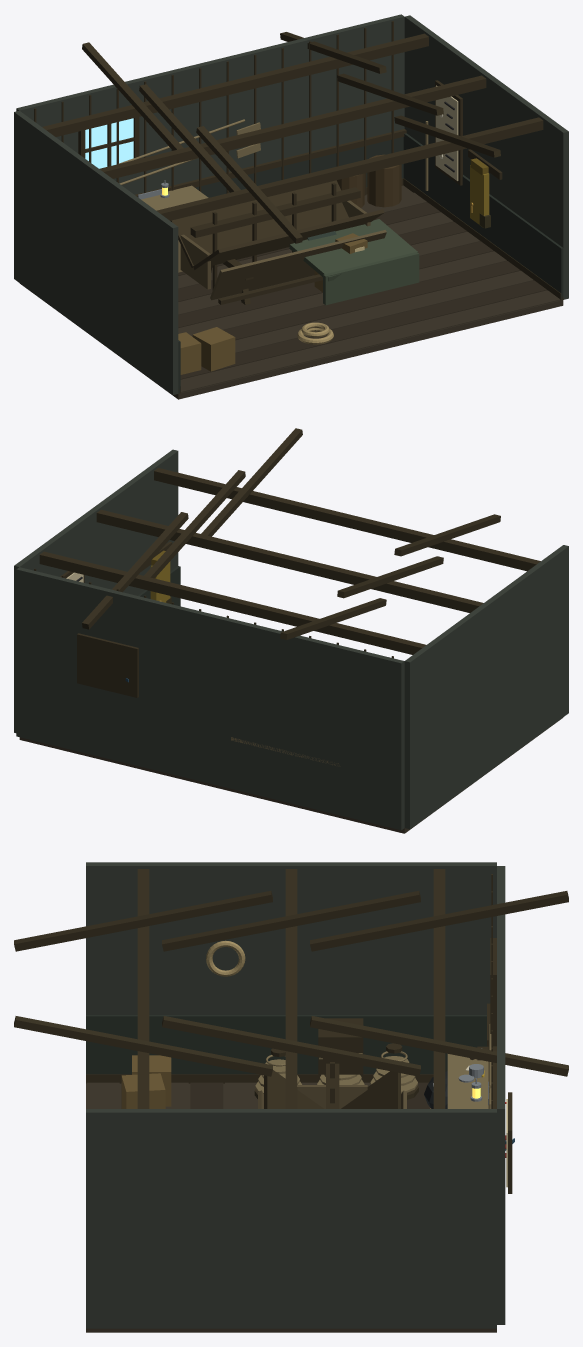
The model's file is boathouse.glb.
3 views of the same model, one above another, from view 1: azimuth 30°, elevation 25°; view 2: azimuth 150°, elevation 25°; view 3: azimuth 270°, elevation 25° (orthographic). The views are drawn at different scales.
Parts seen in each view (by area): view 1: WallLeft, WallBack, WallRight, BandRight, Plank0, BhBeam0, BhBeam1, BhBeam2, Plank1, HullSide1, Plank3, Plank2 (+33 smaller); view 2: WallBack, WallLeft, WallRight, BhBeam2, BhBeam1, BhBeam0, ChartBoardBh, BhRafterR2, BhRafterR1, BhRafterR0, Floor, BhRafterL1 (+2 smaller); view 3: WallRight, WallLeft, BandLeft, WallBack, BhRafterL0, BhRafterL1, BhRafterL2, BhRafterR0, BhRafterR1, BhRafterR2, BhBeam2, BhBeam0 (+14 smaller).
Part boxes in pixels (box(x1,y1,x2,y2)): WallLeft: box(14, 110, 178, 394); WallBack: box(16, 14, 404, 194); WallRight: box(404, 15, 568, 299); BandRight: box(403, 133, 563, 299); Plank0: box(180, 290, 560, 392); BhBeam0: box(156, 117, 543, 220); BhBeam1: box(99, 75, 486, 178); BhBeam2: box(42, 33, 428, 136); Plank1: box(180, 280, 546, 379); HullSide1: box(170, 180, 348, 267); Plank3: box(223, 261, 520, 340); Plank2: box(235, 270, 533, 353); WallBack: box(16, 567, 404, 830); WallLeft: box(404, 545, 568, 829); WallRight: box(14, 449, 178, 732); BhBeam2: box(39, 551, 425, 654); BhBeam1: box(96, 509, 483, 612); BhBeam0: box(154, 468, 540, 571); ChartBoardBh: box(77, 633, 138, 697); BhRafterR2: box(82, 512, 188, 629); BhRafterR1: box(144, 470, 245, 578); BhRafterR0: box(201, 428, 302, 536); Floor: box(19, 718, 562, 833); BhRafterL1: box(337, 556, 443, 598); WallRight: box(86, 1109, 496, 1328); WallLeft: box(86, 862, 496, 1014); BandLeft: box(86, 1015, 488, 1074); WallBack: box(497, 866, 505, 1324); BhRafterL0: box(14, 891, 272, 951); BhRafterL1: box(162, 891, 420, 951); BhRafterL2: box(310, 891, 568, 951); BhRafterR0: box(14, 1016, 272, 1076); BhRafterR1: box(162, 1016, 420, 1076); BhRafterR2: box(310, 1016, 568, 1076); BhBeam2: box(433, 869, 445, 1108); BhBeam0: box(137, 869, 149, 1108).
Size of the model in its own units: 7.2 by 3.51 by 6.75.
